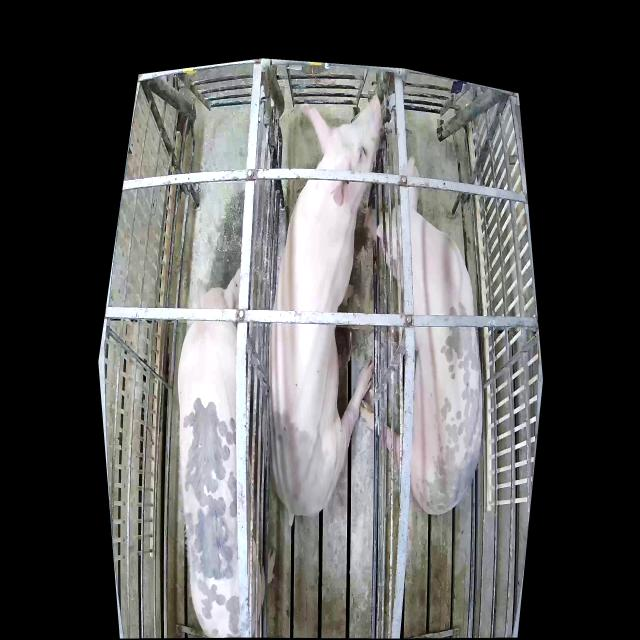pig: (269, 94, 384, 516), (361, 161, 482, 513), (175, 269, 276, 636)
